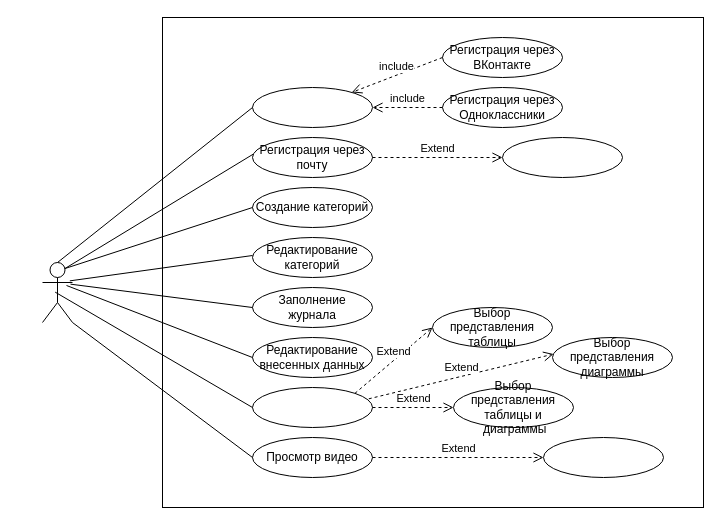
Image size: 721x525. Some labels were removed from this diagram. The shapes that lost their labels are listed below. From the top down, each one's centre as x and y in pixels, then its label:
At pixel 312 107: "Регистрация через соц сети".
At pixel 562 157: "Подтверждение регистрации через почту".
At pixel 57 292: "Пользователь приложения".
At pixel 312 407: "Формирование отчета".
At pixel 603 457: "Внесение пометок к видео".
